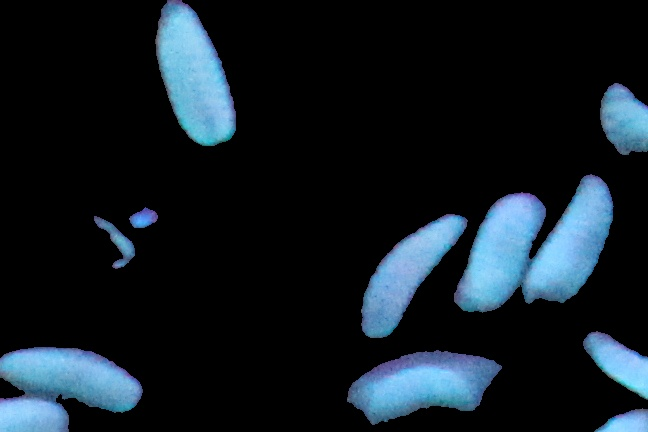larvae: (360, 212, 467, 337), (151, 1, 237, 148), (1, 334, 143, 413), (453, 195, 546, 311), (533, 175, 613, 309), (353, 364, 484, 423), (581, 330, 648, 399)
